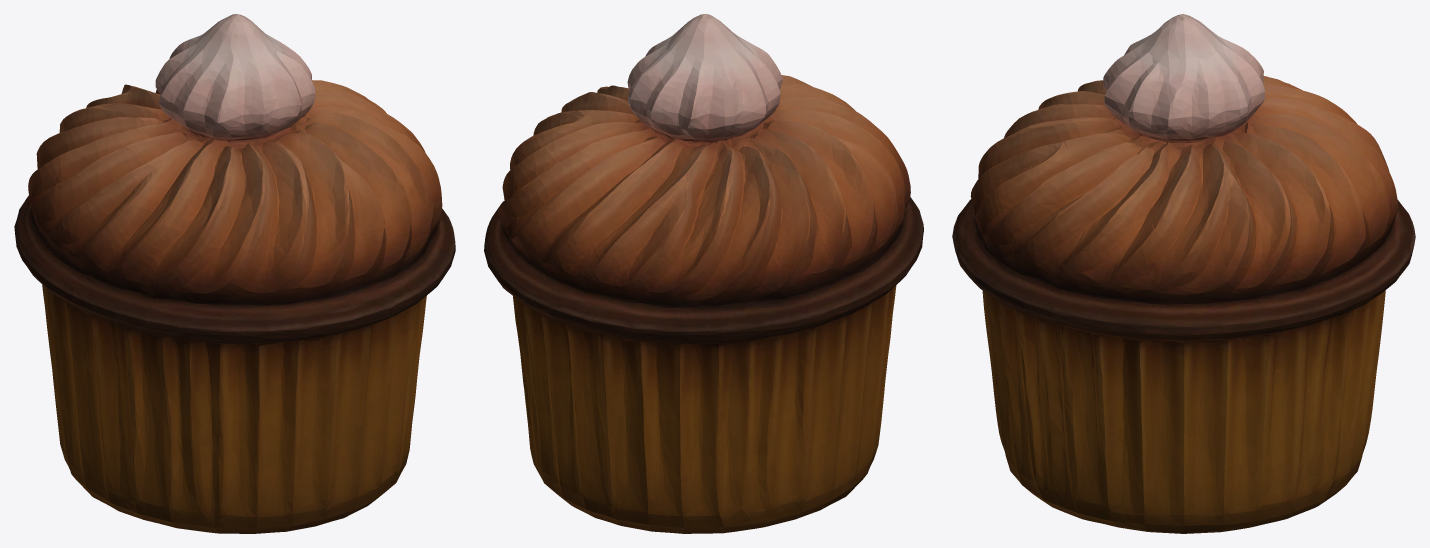
File: item_pastry_1.glb
3 views of the same model, side by side, from view 1: azimuth 30°, elevation 25°; view 2: azimuth 150°, elevation 25°; view 3: azimuth 270°, elevation 25° (orthographic).
Visible parts, largest first — view 1: geometry_0; view 2: geometry_0; view 3: geometry_0.
Part boxes in pixels (x1,y1,x2,y2): geometry_0: (14, 14, 455, 533); geometry_0: (484, 14, 923, 533); geometry_0: (952, 14, 1415, 533).
Bounding box in the file's own units: 0.8626 × 1 × 0.9214.
1 material, 1 textured.
